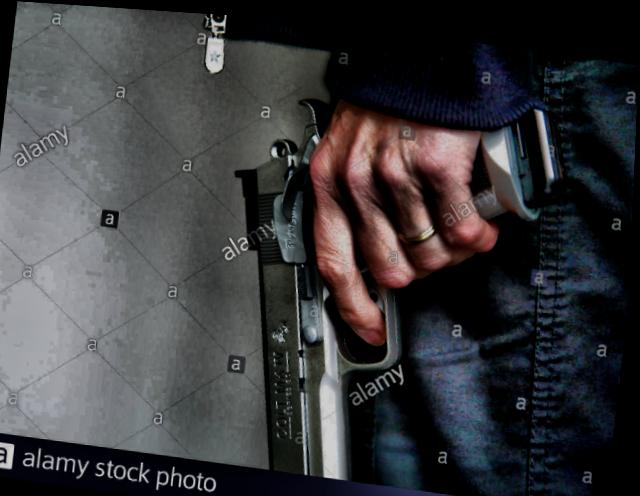pistol: (203, 40, 580, 496)
